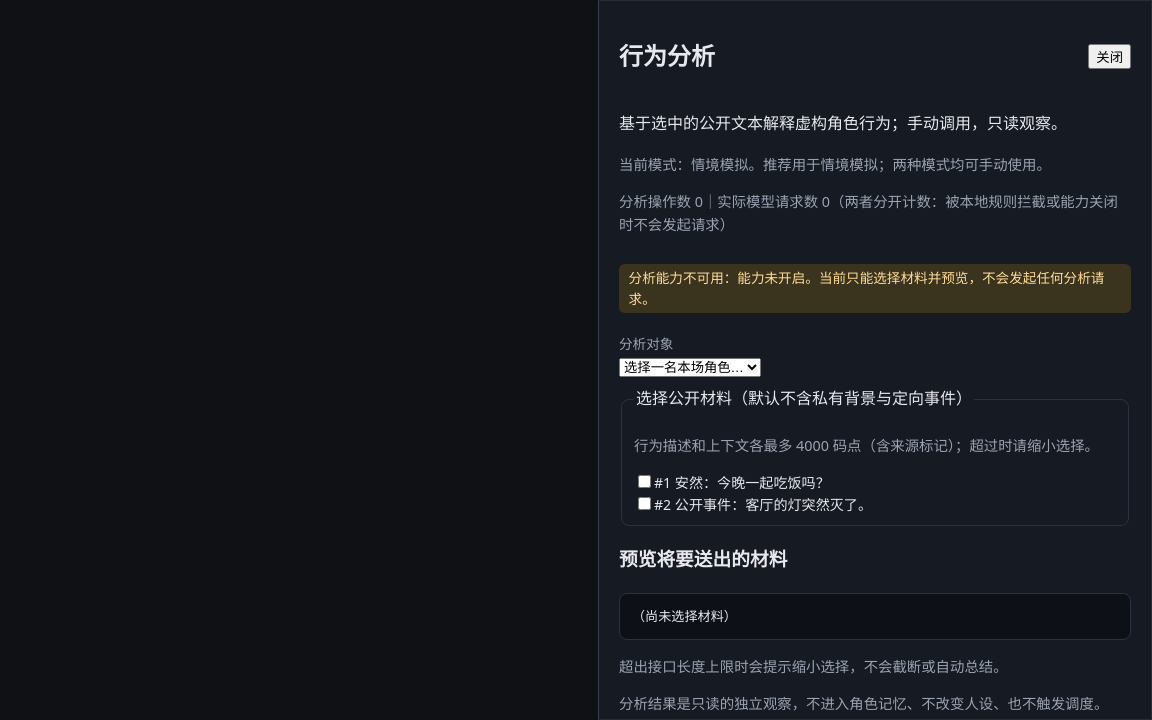
Test: 行为分析抽屉 › 预览只包含被勾选的条目
The image size is (1152, 720).
Click the checkbox labelled "#1 安然：今晚一起吃饭吗？": (644, 481) [638,475,651,488]
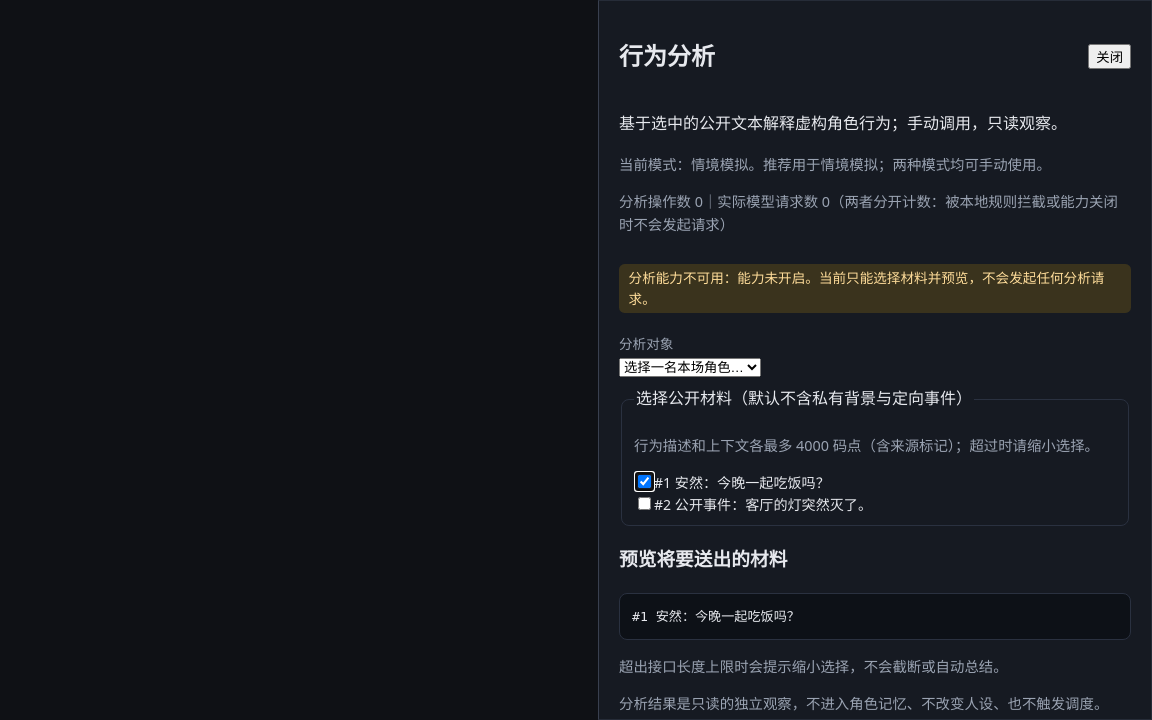
Expected: the text with test id "analysis-preview" does not show "灯突然灭了", [619,593,1131,640]
Expected: the text with test id "analysis-preview" reads "#1 安然：今晚一起吃饭吗？", [632,609,800,624]
